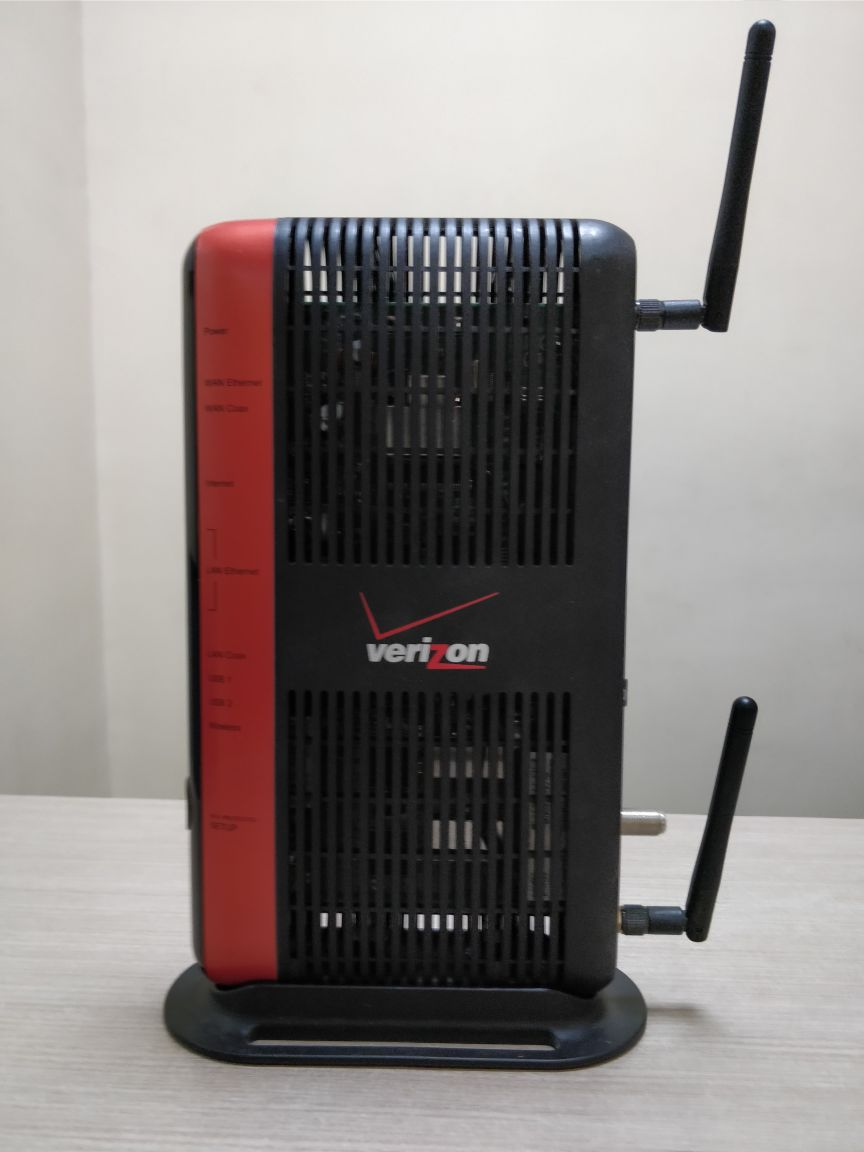Verizon Router: (122, 105, 839, 1130)
